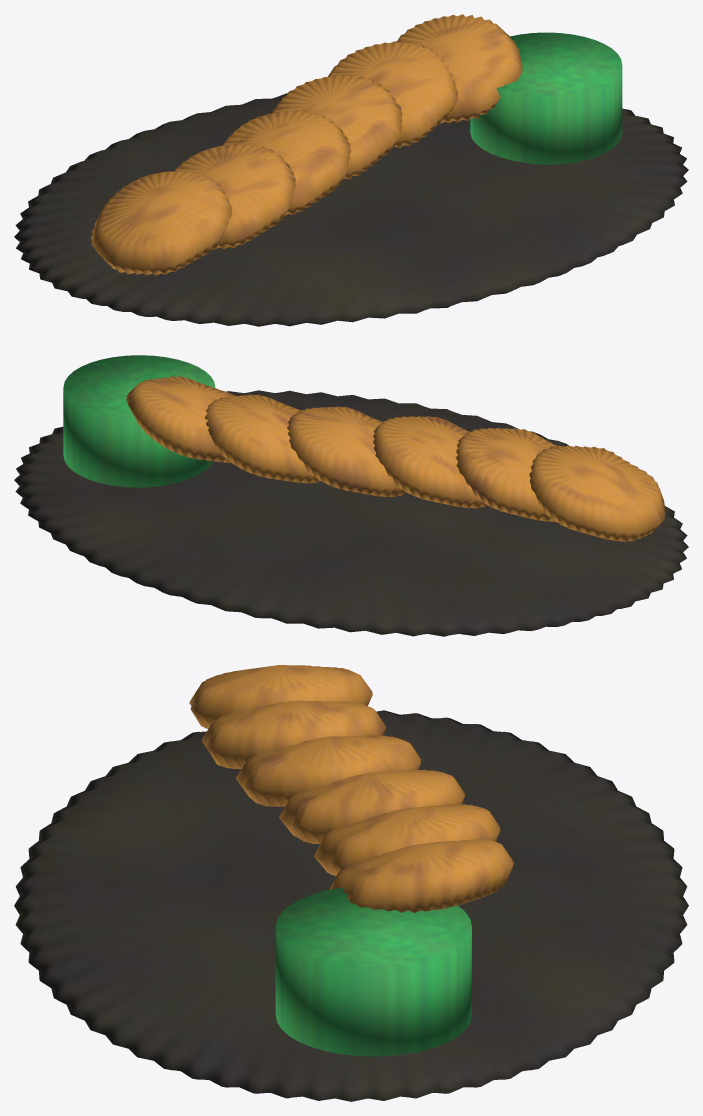
The model's file is dahi-ke-kebab-high.glb.
3 renders of one model, top to bottom at view 1: azimuth 30°, elevation 25°; view 2: azimuth 150°, elevation 25°; view 3: azimuth 270°, elevation 25°, orthographic. The views are drawn at different scales.
Visible parts, largest first — view 1: Mesh_Oval_Tasting_Platter, Mesh_Dahi_Ke_Kebab_Medallions, Mesh_Mint_Chutney_Dip; view 2: Mesh_Oval_Tasting_Platter, Mesh_Dahi_Ke_Kebab_Medallions, Mesh_Mint_Chutney_Dip; view 3: Mesh_Oval_Tasting_Platter, Mesh_Dahi_Ke_Kebab_Medallions, Mesh_Mint_Chutney_Dip.
Part boxes in pixels (bbox=[...]): Mesh_Oval_Tasting_Platter: bbox=[14, 93, 688, 326]; Mesh_Dahi_Ke_Kebab_Medallions: bbox=[91, 14, 522, 275]; Mesh_Mint_Chutney_Dip: bbox=[470, 32, 622, 164]; Mesh_Oval_Tasting_Platter: bbox=[14, 390, 688, 636]; Mesh_Dahi_Ke_Kebab_Medallions: bbox=[126, 376, 665, 542]; Mesh_Mint_Chutney_Dip: bbox=[63, 355, 215, 487]; Mesh_Oval_Tasting_Platter: bbox=[14, 710, 688, 1101]; Mesh_Dahi_Ke_Kebab_Medallions: bbox=[189, 665, 513, 912]; Mesh_Mint_Chutney_Dip: bbox=[275, 887, 471, 1056].
Size of the model in its own units: 2.2 by 0.45 by 1.6.
3 materials, 3 textured.
